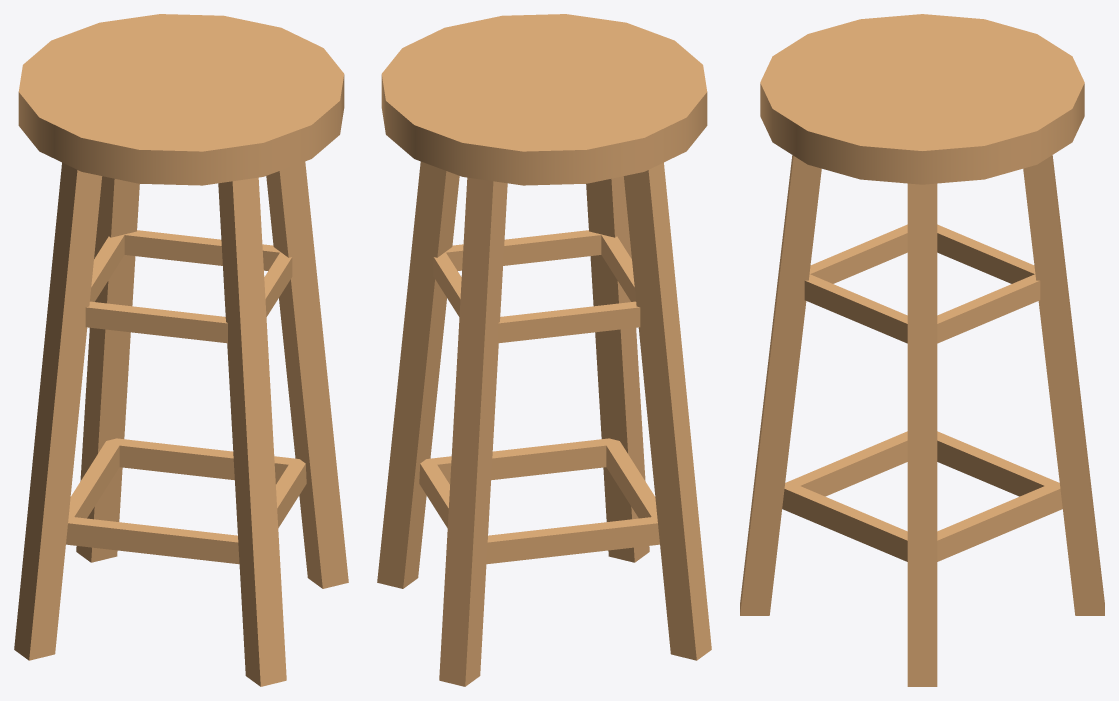
Rendered from Prop_KitchenChair_02.fbx.
3 renders of one model, left to right at view 1: azimuth 30°, elevation 25°; view 2: azimuth 150°, elevation 25°; view 3: azimuth 270°, elevation 25°, orthographic.
Visible parts, largest first — view 1: Prop_KitchenChair_02; view 2: Prop_KitchenChair_02; view 3: Prop_KitchenChair_02.
Part boxes in pixels (x1=…): Prop_KitchenChair_02: x1=14, y1=14, x2=348, y2=686; Prop_KitchenChair_02: x1=377, y1=14, x2=711, y2=686; Prop_KitchenChair_02: x1=740, y1=14, x2=1104, y2=686.
Size of the model in its own units: 51.8 by 82.58 by 51.8.
